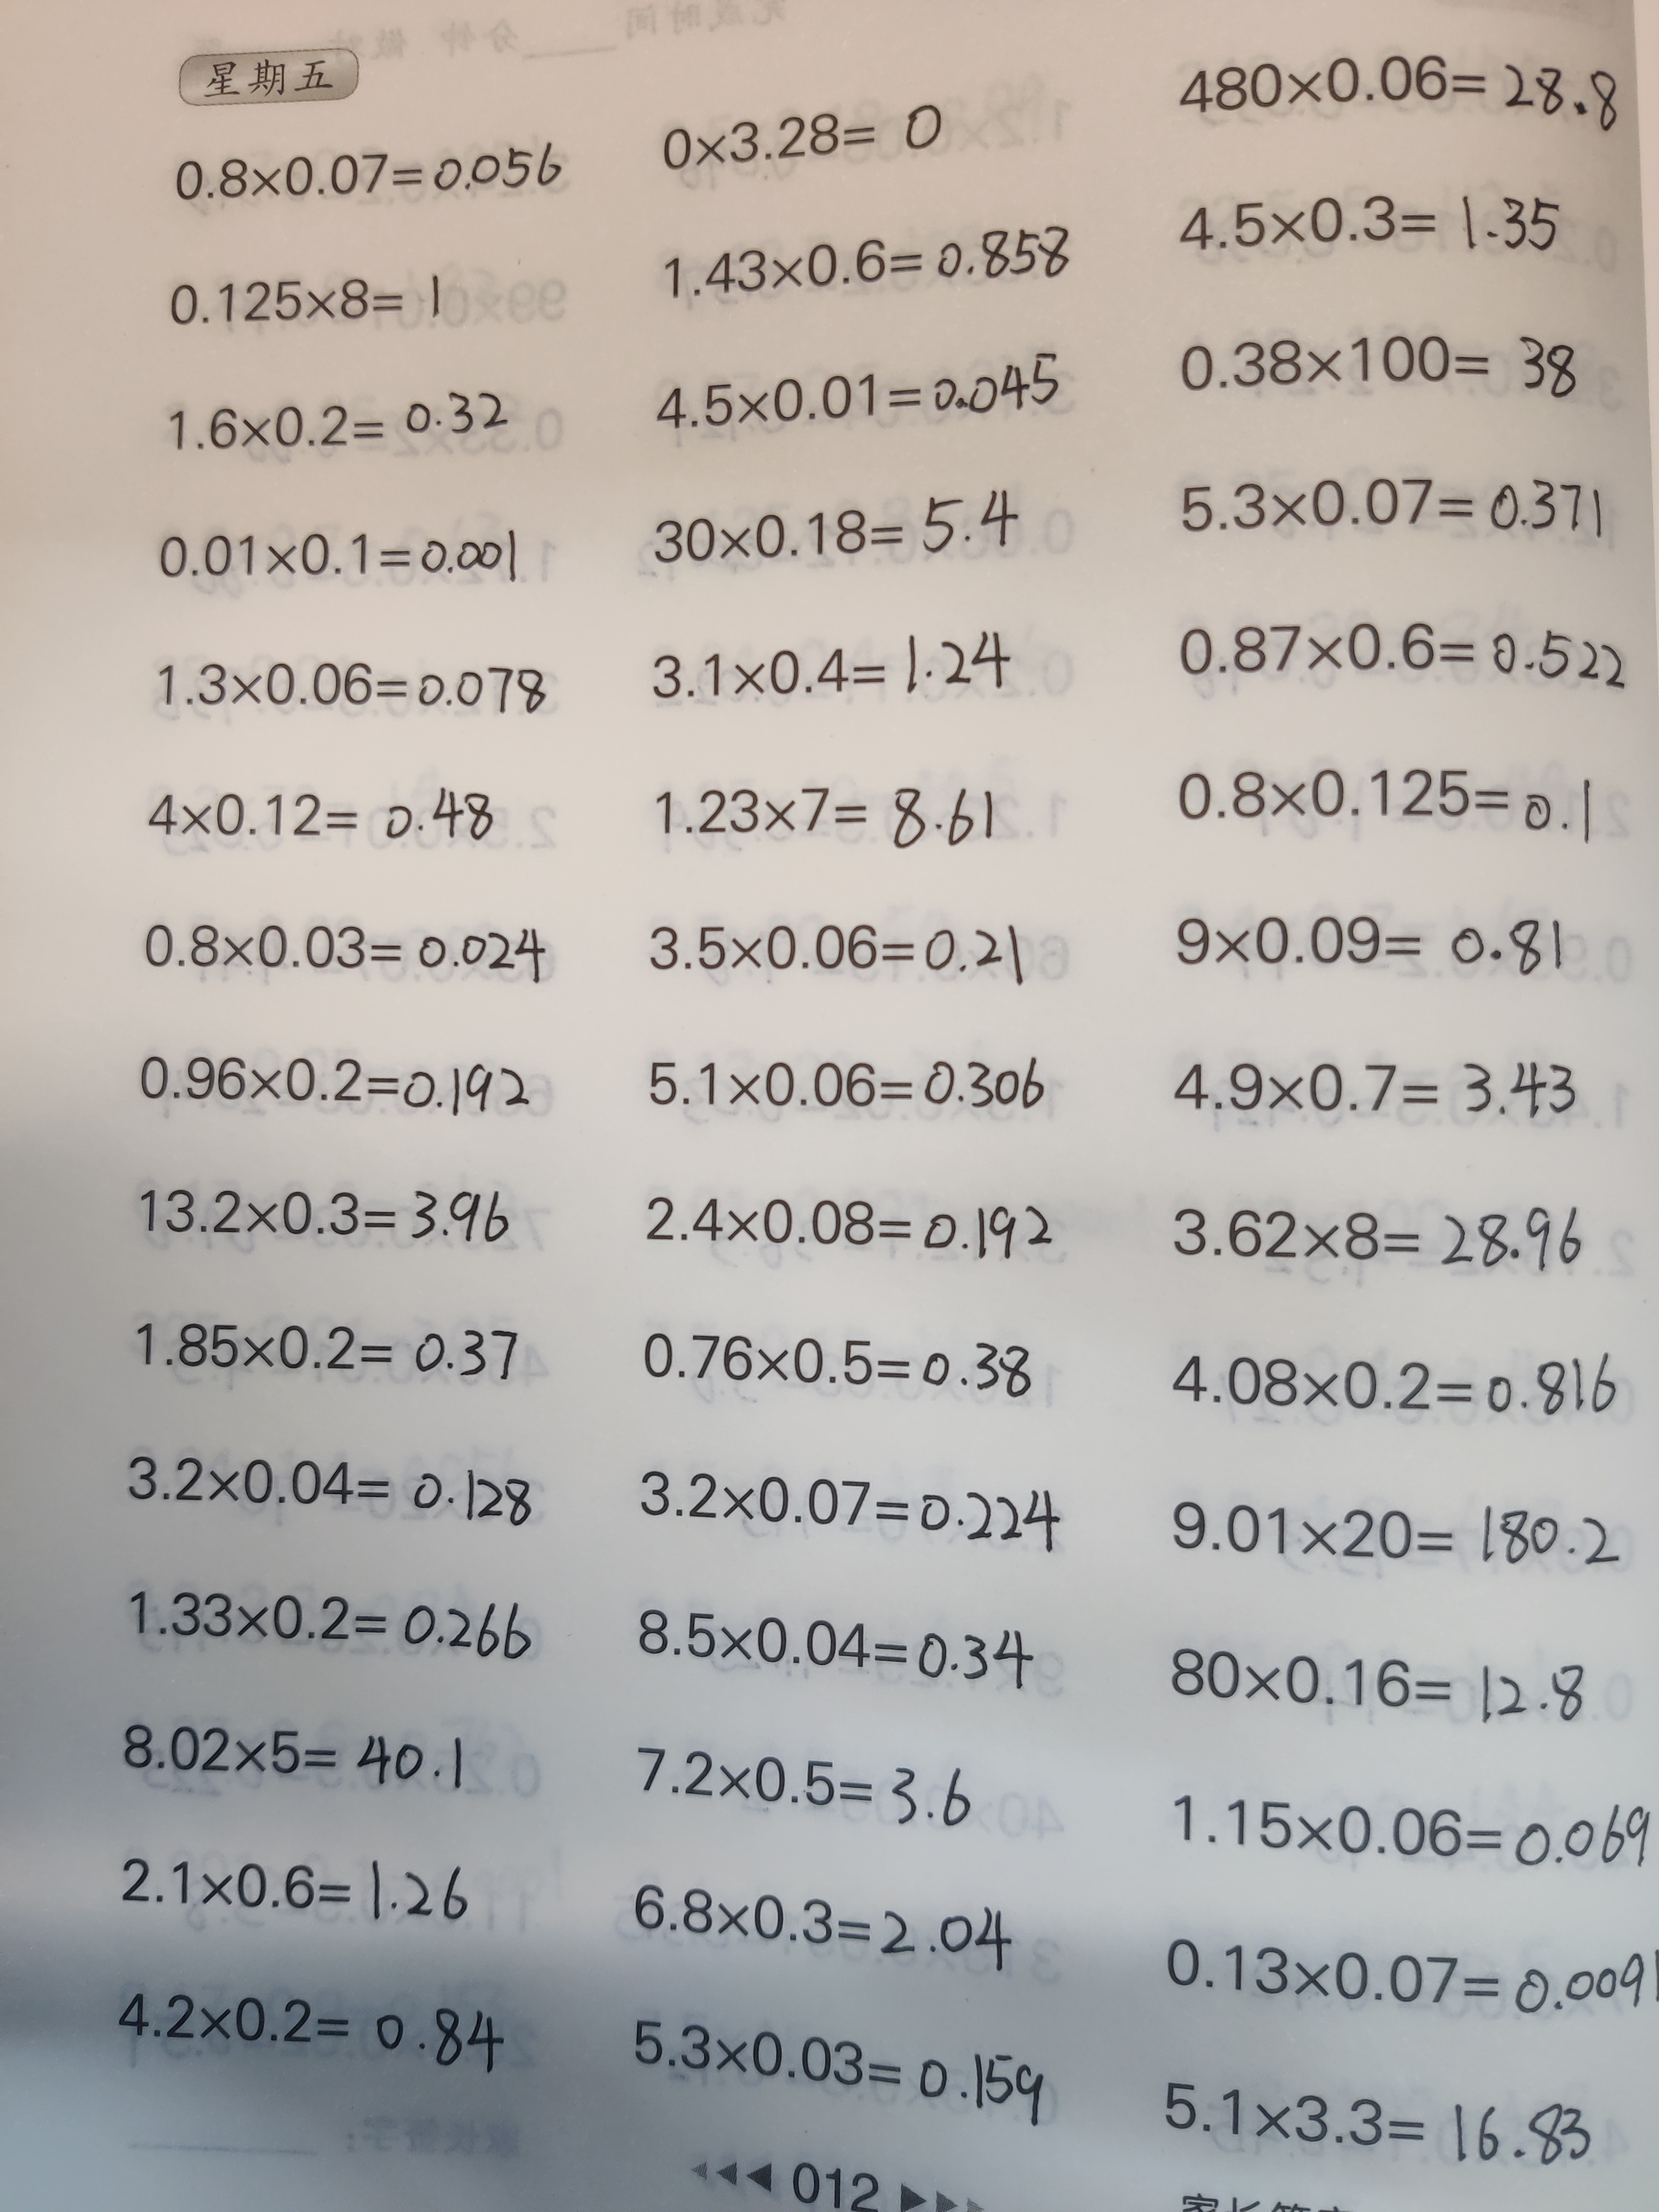equation: (1143, 2047, 1614, 2179), (1161, 1770, 1654, 1892), (629, 2010, 1066, 2142), (622, 1454, 1086, 1568), (1155, 456, 1621, 568), (129, 897, 566, 1015), (1157, 751, 1614, 864), (624, 1869, 1030, 1996), (1168, 45, 1629, 157), (1162, 608, 1638, 714), (1150, 1627, 1603, 1738), (629, 1313, 1072, 1426), (633, 1592, 1049, 1712), (1161, 1480, 1629, 1587), (1162, 1329, 1633, 1433), (624, 1169, 1072, 1278), (112, 1573, 540, 1686), (624, 897, 1053, 1010), (112, 1296, 549, 1406), (112, 1973, 516, 2087), (1164, 892, 1586, 1000), (112, 1433, 542, 1538), (1162, 1042, 1607, 1143), (110, 1841, 497, 1954), (624, 1730, 999, 1846), (648, 340, 1080, 441), (125, 1038, 556, 1139), (125, 1158, 533, 1264), (1155, 1197, 1610, 1287), (645, 615, 1019, 725), (143, 500, 544, 601), (631, 1038, 1068, 1130), (645, 481, 1037, 582), (112, 1709, 484, 1813), (1169, 322, 1600, 411), (638, 765, 1016, 866), (143, 639, 556, 732), (132, 777, 511, 873), (1164, 185, 1579, 272), (150, 369, 537, 462), (652, 226, 1093, 305), (153, 131, 579, 211), (138, 253, 486, 340), (645, 94, 967, 181)
